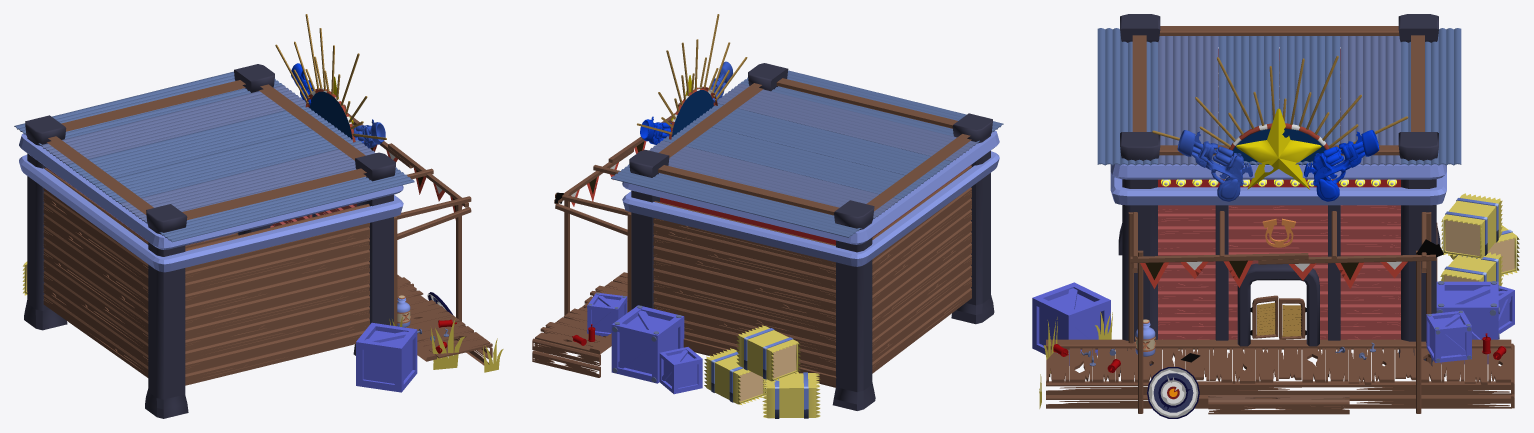
Rendered from bar.fbx.
The picture shows the model from 3 angles, left to right: view 1: azimuth 30°, elevation 25°; view 2: azimuth 150°, elevation 25°; view 3: azimuth 270°, elevation 25°; orthographic projection. The views are drawn at different scales.
Visible parts, largest first — view 1: Плоскость.009, Плоскость.013, Плоскость.054, Плоскость.010, Куб.002, Плоскость.019, Плоскость.025, Плоскость.022, Плоскость.030, Плоскость.018, Куб.004, Плоскость.014 (+5 smaller); view 2: Плоскость.029, Плоскость.013, Плоскость.054, Плоскость.010, Куб.002, Плоскость.030, Плоскость.022, Плоскость.025, Плоскость.019, Плоскость.014, Куб.005, Плоскость.018 (+12 smaller); view 3: Плоскость.026, Куб.002, Плоскость.015, Плоскость.013, Плоскость.010, Плоскость.011, Плоскость.019, Плоскость.030, Плоскость.018, Плоскость.025, Плоскость.014, Плоскость.022 (+26 smaller).
Boxes of the visible parts, box(x1,y1,x2,y2) form: Плоскость.009: box(185, 204, 369, 385); Плоскость.013: box(24, 64, 395, 418); Плоскость.054: box(43, 168, 148, 377); Плоскость.010: box(19, 133, 403, 272); Куб.002: box(47, 80, 471, 361); Плоскость.019: box(40, 85, 306, 164); Плоскость.025: box(93, 125, 361, 203); Плоскость.022: box(67, 105, 331, 184); Плоскость.030: box(119, 143, 375, 222); Плоскость.018: box(146, 167, 414, 242); Куб.004: box(356, 322, 417, 392); Плоскость.014: box(14, 71, 282, 145); Плоскость.029: box(653, 201, 835, 376); Плоскость.013: box(629, 63, 994, 410); Плоскость.054: box(872, 165, 971, 373); Плоскость.010: box(622, 130, 999, 266); Куб.002: box(554, 78, 971, 387); Плоскость.030: box(717, 83, 977, 161); Плоскость.022: box(663, 122, 926, 199); Плоскость.025: box(692, 103, 951, 180); Плоскость.019: box(649, 140, 900, 218); Плоскость.014: box(611, 164, 874, 237); Куб.005: box(611, 305, 684, 383); Плоскость.018: box(740, 70, 1003, 142); Плоскость.026: box(1158, 205, 1400, 339); Куб.002: box(1046, 26, 1511, 413); Плоскость.015: box(1046, 348, 1510, 384); Плоскость.013: box(1118, 14, 1440, 372); Плоскость.010: box(1110, 36, 1446, 205); Плоскость.011: box(1177, 108, 1379, 201); Плоскость.019: box(1340, 36, 1400, 165); Плоскость.030: box(1158, 36, 1218, 165); Плоскость.018: box(1097, 28, 1157, 165); Плоскость.025: box(1218, 36, 1279, 165); Плоскость.014: box(1401, 28, 1461, 165); Плоскость.022: box(1279, 36, 1339, 165).
Bounding box in the file's own units: 2253 × 1877 × 2574.
